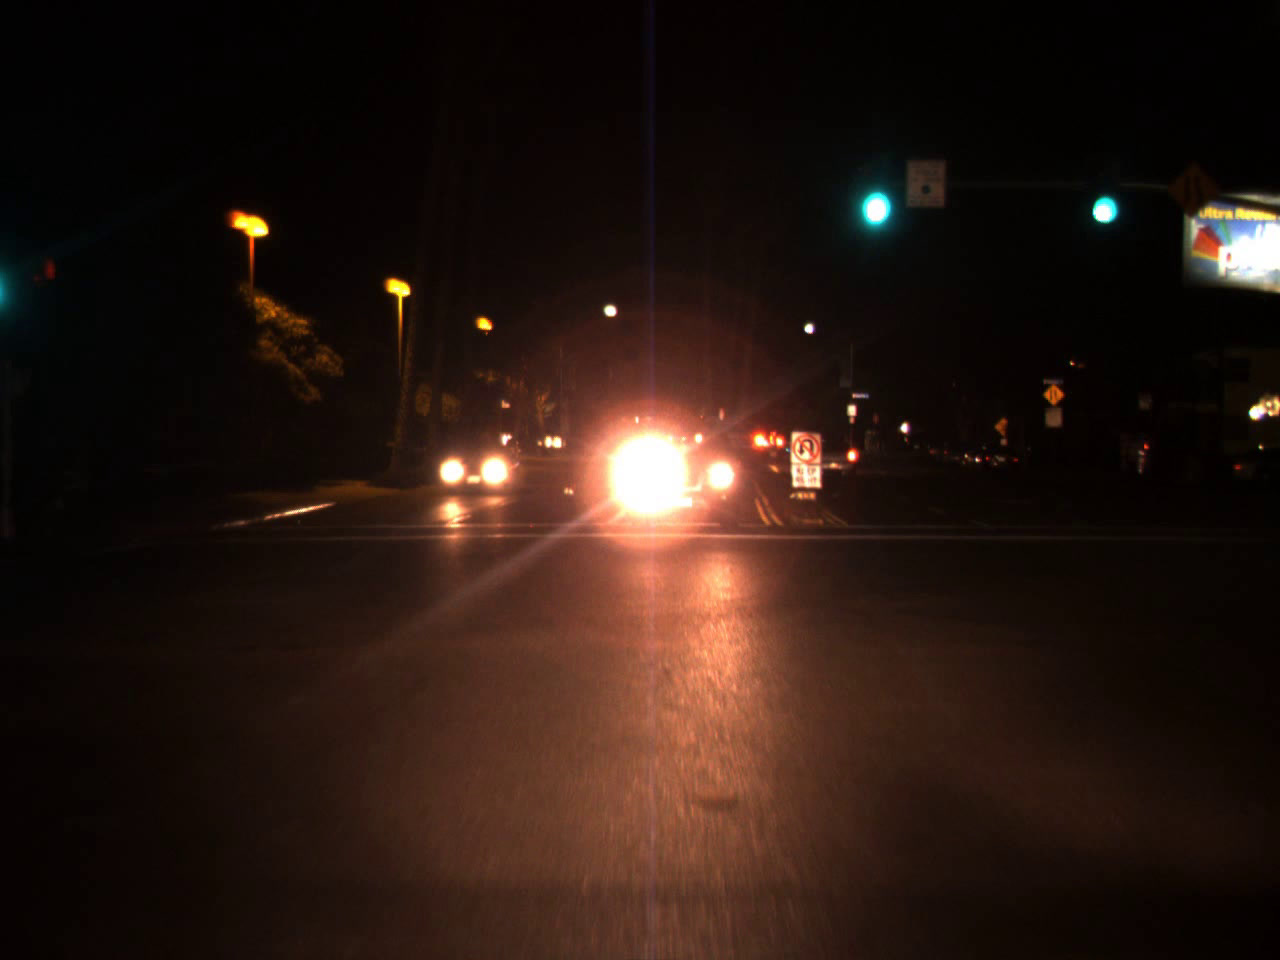go: (852, 151, 893, 238), (1081, 162, 1122, 234)
